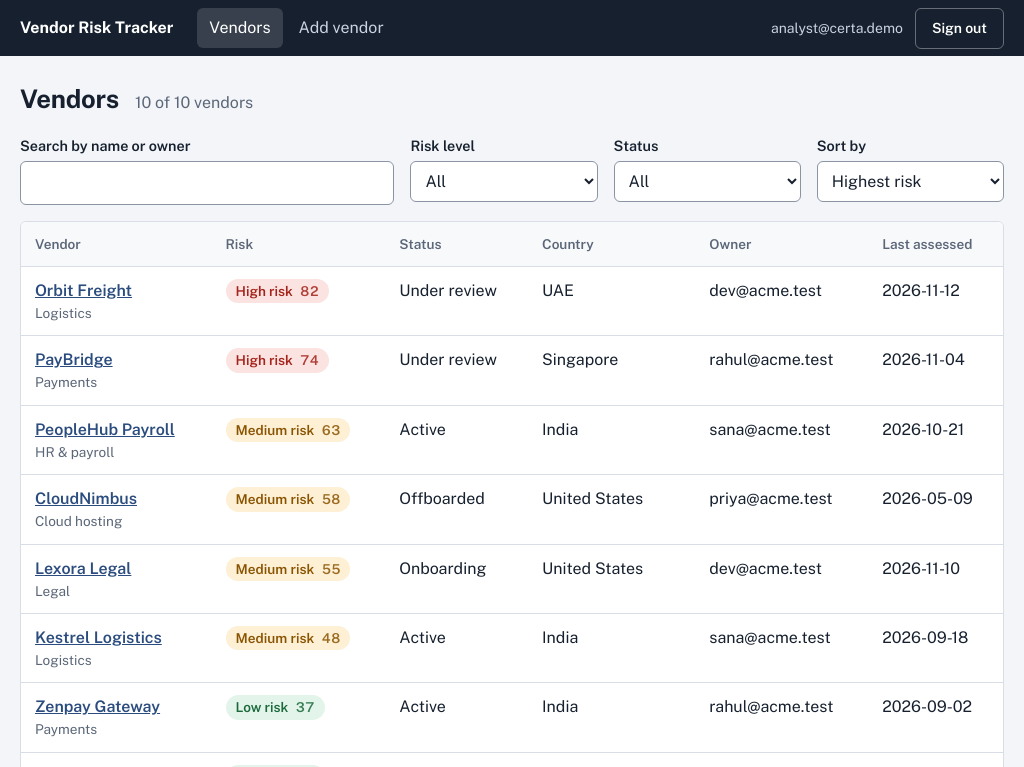
Test case: vendor list › narrows results as you type and offers a way out of an empty result
Type "zzz" into the search field labelled "Search by name or owner" at (207, 183), box left=20, top=161, right=394, bottom=205
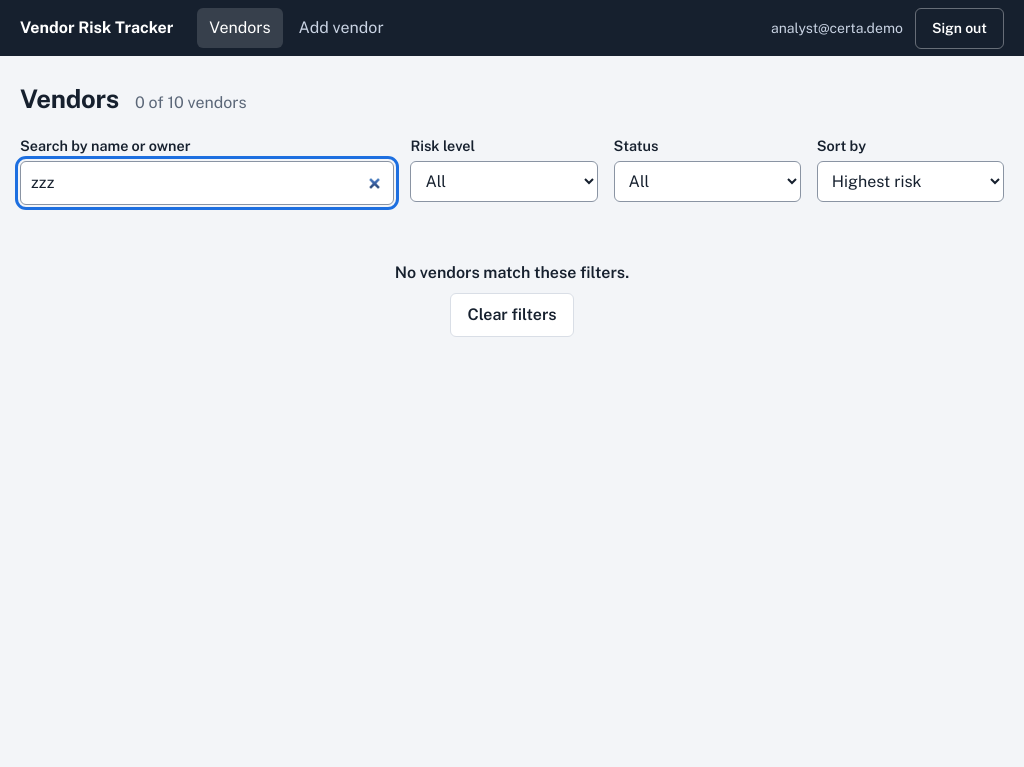
Check: the text "No vendors match these filters." is shown, box left=395, top=263, right=629, bottom=282
Click the button "Clear filters" at (512, 315), box left=450, top=293, right=574, bottom=337
(page scrolled)
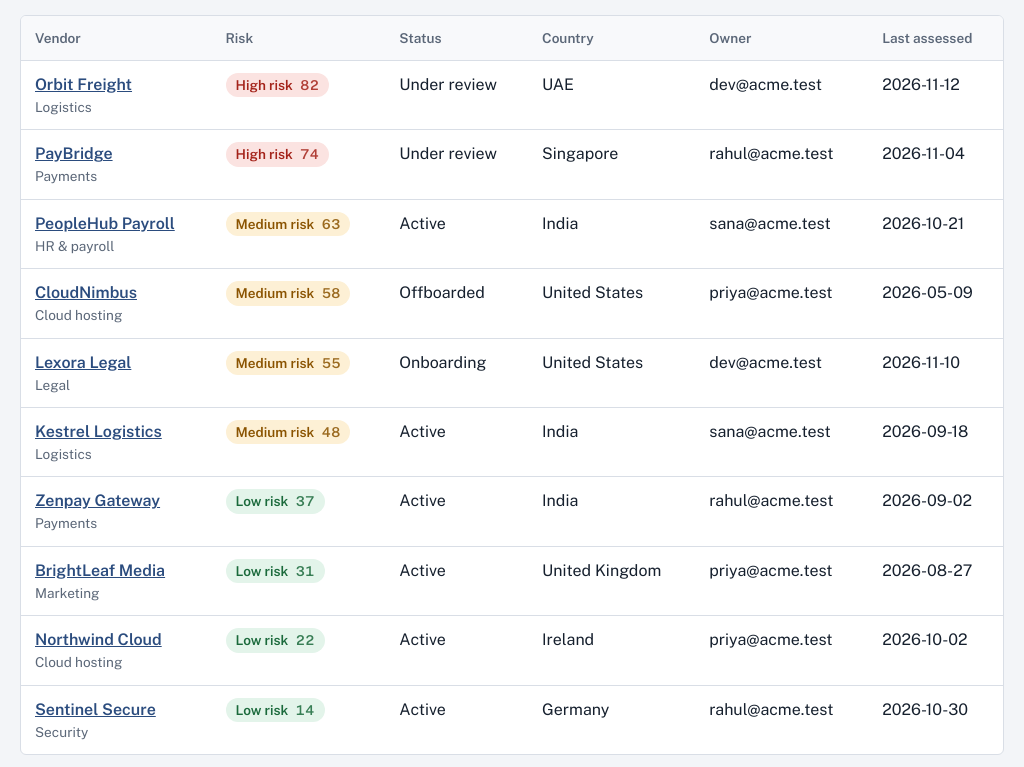
Check: the table is shown
